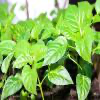Bell_pepper leaf: (41, 36, 68, 65), (64, 3, 86, 33), (1, 72, 24, 100), (48, 62, 75, 85), (75, 33, 94, 64), (22, 62, 37, 96), (76, 72, 91, 100), (11, 39, 31, 57), (1, 50, 15, 74), (11, 54, 34, 67), (34, 44, 48, 63)
